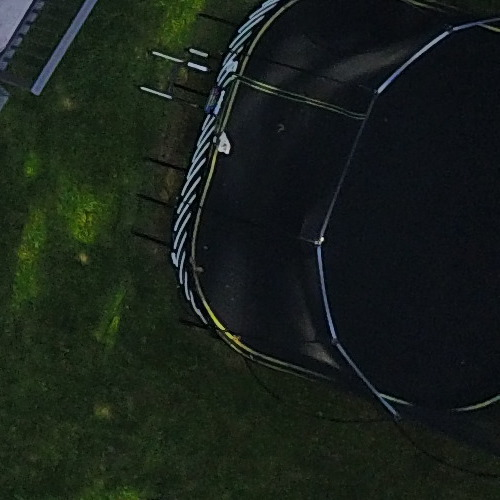toy: (73, 3, 496, 461)
